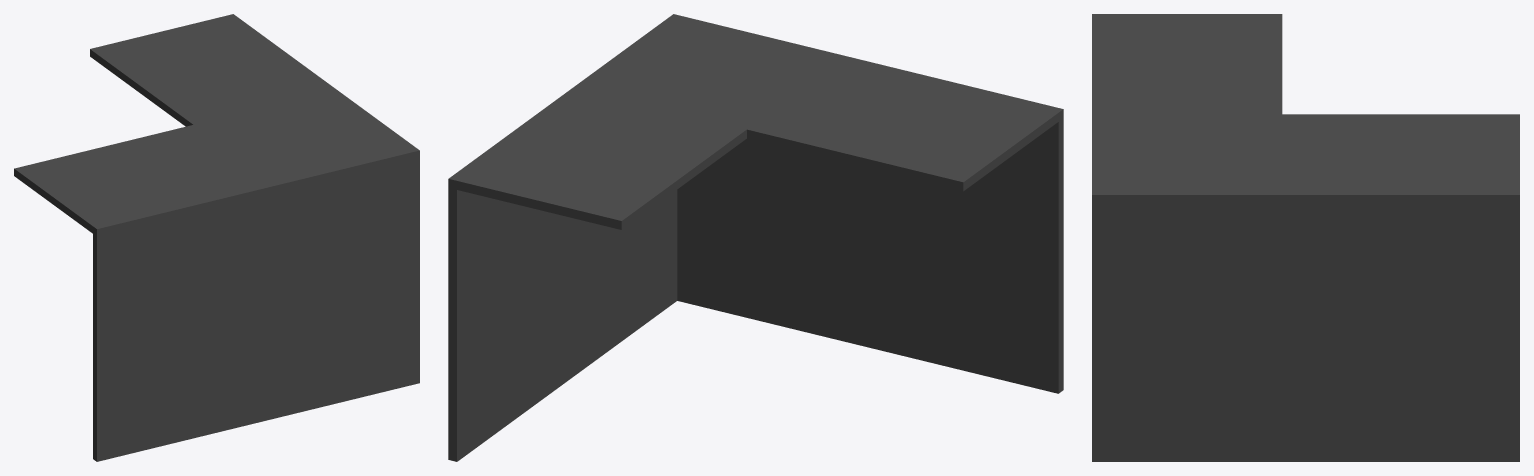
The model's file is MBS_City_WaterwayCurveOut.fbx.
The picture shows the model from 3 angles, left to right: view 1: azimuth 30°, elevation 25°; view 2: azimuth 150°, elevation 25°; view 3: azimuth 270°, elevation 25°; orthographic projection. The views are drawn at different scales.
Parts seen in each view (by area): view 1: Cube.841; view 2: Cube.841; view 3: Cube.841.
Boxes of the visible parts, x1,y1,x2,y2 form: Cube.841: [14, 14, 419, 461]; Cube.841: [448, 14, 1063, 461]; Cube.841: [1092, 14, 1519, 461].
Bounding box in the file's own units: 1800 × 1240 × 1800.
